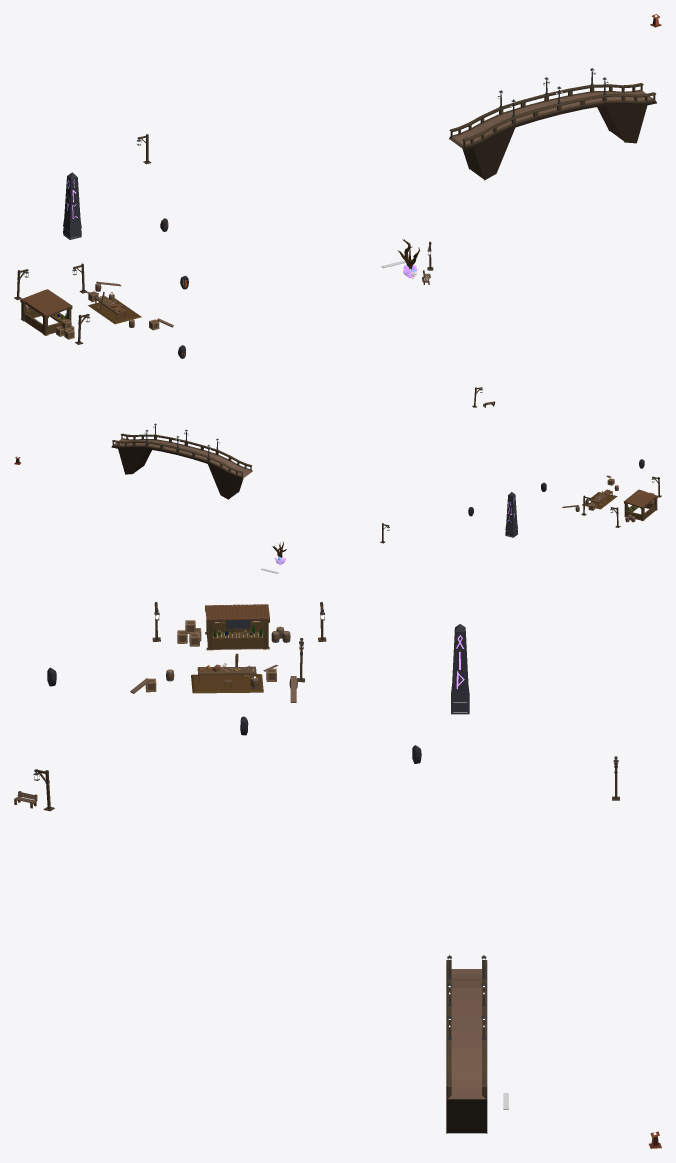
Rendered from Models.glb.
The picture shows the model from 3 angles, top to bottom: view 1: azimuth 30°, elevation 25°; view 2: azimuth 150°, elevation 25°; view 3: azimuth 270°, elevation 25°; orthographic projection. The views are drawn at different scales.
Parts seen in each view (by area): view 1: Bridge, MarketStall, Monolith, WoodWorking; view 2: Bridge, MarketStall, Monolith, WoodWorking; view 3: Bridge, MarketStall, WoodWorking, Monolith.
Part boxes in pixels (bbox=[...]): Bridge: bbox=[449, 68, 656, 180]; MarketStall: bbox=[20, 289, 72, 335]; Monolith: bbox=[63, 172, 81, 239]; WoodWorking: bbox=[88, 291, 141, 324]; Bridge: bbox=[111, 423, 252, 499]; MarketStall: bbox=[623, 489, 657, 520]; Monolith: bbox=[505, 492, 517, 537]; WoodWorking: bbox=[582, 489, 617, 509]; Bridge: bbox=[446, 955, 487, 1133]; MarketStall: bbox=[205, 604, 269, 650]; WoodWorking: bbox=[191, 653, 263, 693]; Monolith: bbox=[451, 624, 469, 714].
Size of the model in its own units: 131 by 30.2 by 69.55.
